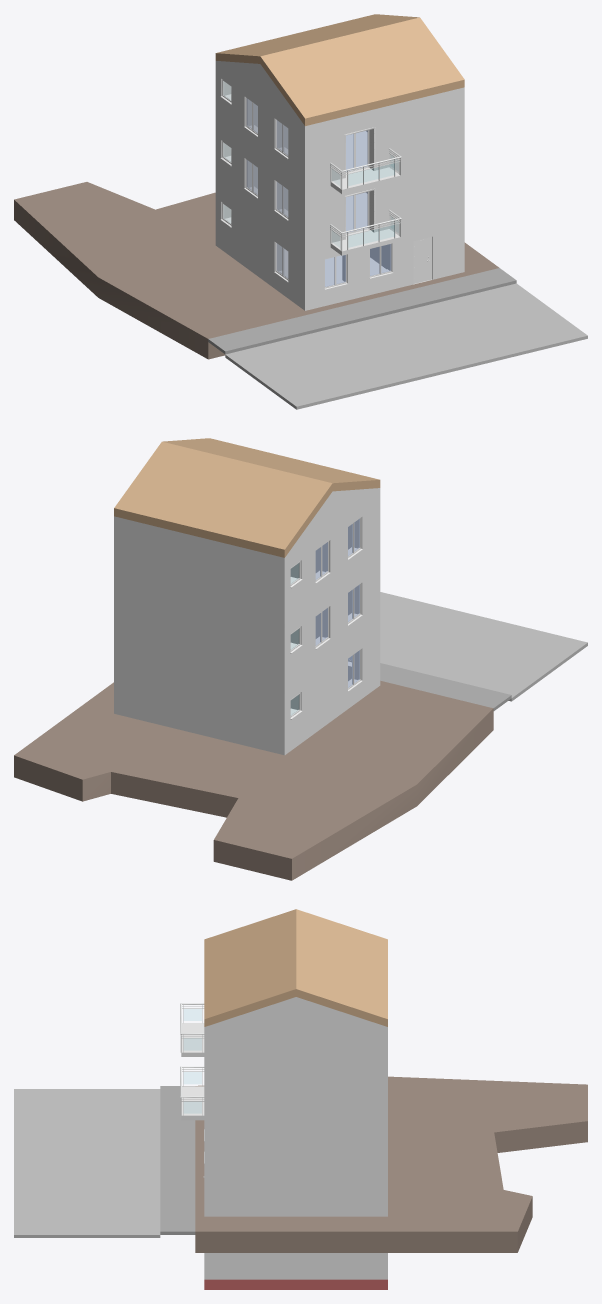
The model's file is BuildingTestex.gltf.
The picture shows the model from 3 angles, top to bottom: view 1: azimuth 30°, elevation 25°; view 2: azimuth 150°, elevation 25°; view 3: azimuth 270°, elevation 25°; orthographic projection. The views are drawn at different scales.
Parts seen in each view (by area): view 1: Toposolid:Generic - 1000mm:313215 #810, Street:Street:330826 #9106, Basic Roof:Roof_Pitched_38Tile-25Bat-0Felt-25bat-100Ins-150T (×2), Basic Wall:Wall-Ext_102Bwk-75Ins-100LBlk-12P:315247 #1662, Basic Wall:Wall-Ext_102Bwk-75Ins-100LBlk-12P:315032 #1510, Basic Wall:Wall-Ext_102Bwk-75Ins-100LBlk-12P:314955 #1462, Toposolid:Path - 150mm concrete:323015 #9079, Basic Wall:Wall-Ext_102Bwk-75Ins-100LBlk-12P:314642 #1276, Basic Wall:Wall-Ext_102Bwk-75Ins-100LBlk-12P:314398 #1104, Basic Wall:Wall-Ext_102Bwk-75Ins-100LBlk-12P:314748 #1315, Floor:Floor-Upper_160mmConc-CorusComFlor51:314162 #919, Floor:Floor-Upper_160mmConc-CorusComFlor51:314189 #976 (+10 smaller); view 2: Toposolid:Generic - 1000mm:313215 #810, Basic Roof:Roof_Pitched_38Tile-25Bat-0Felt-25bat-100Ins-150T (×2), Street:Street:330826 #9106, Basic Wall:Wall-Ext_102Bwk-75Ins-100LBlk-12P:315119 #1545, Basic Wall:Wall-Ext_102Bwk-75Ins-100LBlk-12P:314498 #1166, Basic Wall:Wall-Ext_102Bwk-75Ins-100LBlk-12P:314828 #1353, Basic Wall:Wall-Ext_102Bwk-75Ins-100LBlk-12P:315032 #1510, Basic Wall:Wall-Ext_102Bwk-75Ins-100LBlk-12P:314398 #1104, Basic Wall:Wall-Ext_102Bwk-75Ins-100LBlk-12P:314748 #1315, Toposolid:Path - 150mm concrete:323015 #9079, Floor:Floor-Upper_160mmConc-CorusComFlor51:314162 #919, Floor:Floor-Upper_160mmConc-CorusComFlor51:314189 #976; view 3: Toposolid:Generic - 1000mm:313215 #810, Street:Street:330826 #9106, Basic Roof:Roof_Pitched_38Tile-25Bat-0Felt-25bat-100Ins-150T (×2), Basic Wall:Wall-Ext_102Bwk-75Ins-100LBlk-12P:315200 #1628, Basic Wall:Wall-Ext_102Bwk-75Ins-100LBlk-12P:314896 #1425, Basic Wall:Wall-Ext_102Bwk-75Ins-100LBlk-12P:314583 #1239, Toposolid:Path - 150mm concrete:323015 #9079, Basic Wall:Wall-Ext_102Bwk-75Ins-100LBlk-12P:315745 #1787, Floor:Floor-Grnd-Bearing_65Scr-90Ins-125Conc-50SBld-150Hcore, Floor:Floor-Upper_160mmConc-CorusComFlor51:314162 #919, Floor:Floor-Upper_160mmConc-CorusComFlor51:314189 #976, Basic Wall:Wall-Ext_102Bwk-75Ins-100LBlk-12P:315119 #1545 (+2 smaller).
Boxes of the visible parts, x1,y1,x2,y2 form: Toposolid:Generic - 1000mm:313215 #810: (14, 182, 499, 359); Street:Street:330826 #9106: (225, 283, 587, 409); Basic Roof:Roof_Pitched_38Tile-25Bat-0Felt-25bat-100Ins-150T (×2): (215, 14, 464, 126); Basic Wall:Wall-Ext_102Bwk-75Ins-100LBlk-12P:315247 #1662: (314, 89, 455, 185); Basic Wall:Wall-Ext_102Bwk-75Ins-100LBlk-12P:315032 #1510: (215, 61, 314, 187); Basic Wall:Wall-Ext_102Bwk-75Ins-100LBlk-12P:314955 #1462: (314, 155, 455, 246); Toposolid:Path - 150mm concrete:323015 #9079: (208, 268, 516, 354); Basic Wall:Wall-Ext_102Bwk-75Ins-100LBlk-12P:314642 #1276: (314, 217, 455, 308); Basic Wall:Wall-Ext_102Bwk-75Ins-100LBlk-12P:314398 #1104: (215, 188, 314, 310); Basic Wall:Wall-Ext_102Bwk-75Ins-100LBlk-12P:314748 #1315: (215, 127, 314, 249); Floor:Floor-Upper_160mmConc-CorusComFlor51:314162 #919: (215, 184, 464, 255); Floor:Floor-Upper_160mmConc-CorusComFlor51:314189 #976: (215, 122, 464, 193); Toposolid:Generic - 1000mm:313215 #810: (14, 680, 493, 880); Basic Roof:Roof_Pitched_38Tile-25Bat-0Felt-25bat-100Ins-150T (×2): (114, 438, 380, 557); Street:Street:330826 #9106: (380, 592, 587, 701); Basic Wall:Wall-Ext_102Bwk-75Ins-100LBlk-12P:315119 #1545: (114, 516, 274, 621); Basic Wall:Wall-Ext_102Bwk-75Ins-100LBlk-12P:314498 #1166: (114, 652, 274, 752); Basic Wall:Wall-Ext_102Bwk-75Ins-100LBlk-12P:314828 #1353: (114, 587, 274, 686); Basic Wall:Wall-Ext_102Bwk-75Ins-100LBlk-12P:315032 #1510: (274, 488, 380, 623); Basic Wall:Wall-Ext_102Bwk-75Ins-100LBlk-12P:314398 #1104: (274, 624, 380, 755); Basic Wall:Wall-Ext_102Bwk-75Ins-100LBlk-12P:314748 #1315: (274, 559, 380, 689); Toposolid:Path - 150mm concrete:323015 #9079: (348, 656, 511, 710); Floor:Floor-Upper_160mmConc-CorusComFlor51:314162 #919: (114, 620, 380, 694); Floor:Floor-Upper_160mmConc-CorusComFlor51:314189 #976: (114, 554, 380, 628); Toposolid:Generic - 1000mm:313215 #810: (195, 1076, 587, 1252); Street:Street:330826 #9106: (14, 1089, 160, 1237); Basic Roof:Roof_Pitched_38Tile-25Bat-0Felt-25bat-100Ins-150T (×2): (204, 909, 387, 1026); Basic Wall:Wall-Ext_102Bwk-75Ins-100LBlk-12P:315200 #1628: (204, 997, 376, 1090); Basic Wall:Wall-Ext_102Bwk-75Ins-100LBlk-12P:314896 #1425: (204, 1094, 376, 1153); Basic Wall:Wall-Ext_102Bwk-75Ins-100LBlk-12P:314583 #1239: (204, 1158, 376, 1216); Toposolid:Path - 150mm concrete:323015 #9079: (160, 1086, 195, 1234); Basic Wall:Wall-Ext_102Bwk-75Ins-100LBlk-12P:315745 #1787: (204, 1253, 376, 1279); Floor:Floor-Grnd-Bearing_65Scr-90Ins-125Conc-50SBld-150Hcore: (204, 1279, 387, 1289); Floor:Floor-Upper_160mmConc-CorusComFlor51:314162 #919: (181, 1086, 387, 1157); Floor:Floor-Upper_160mmConc-CorusComFlor51:314189 #976: (181, 1023, 387, 1094); Basic Wall:Wall-Ext_102Bwk-75Ins-100LBlk-12P:315119 #1545: (376, 1023, 387, 1090).
Size of the model in its own units: 15.84 by 14.29 by 24.71.
